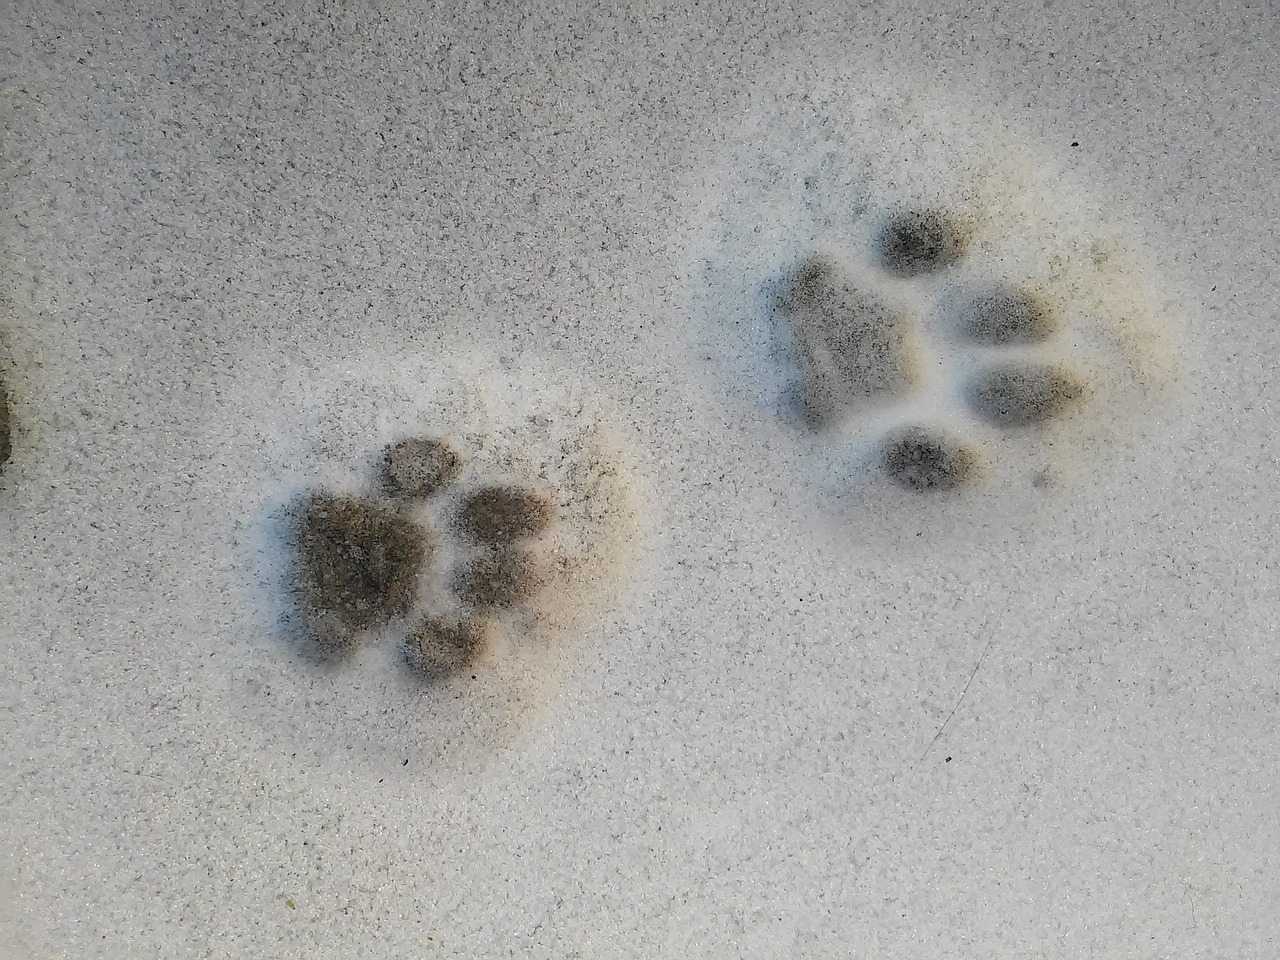cat: (763, 179, 1081, 534), (240, 449, 546, 700)
